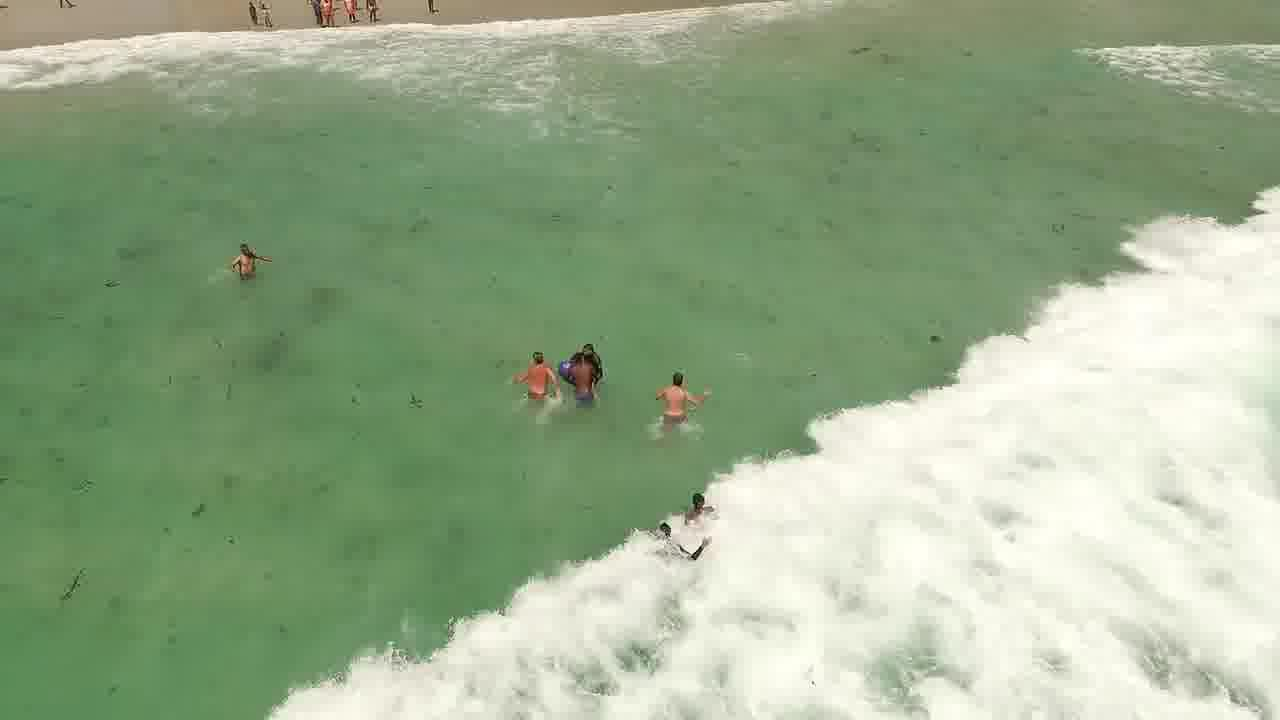human: (510, 339, 560, 408), (223, 223, 267, 288), (663, 352, 695, 429), (570, 340, 605, 395), (679, 481, 720, 525), (647, 511, 668, 541)
